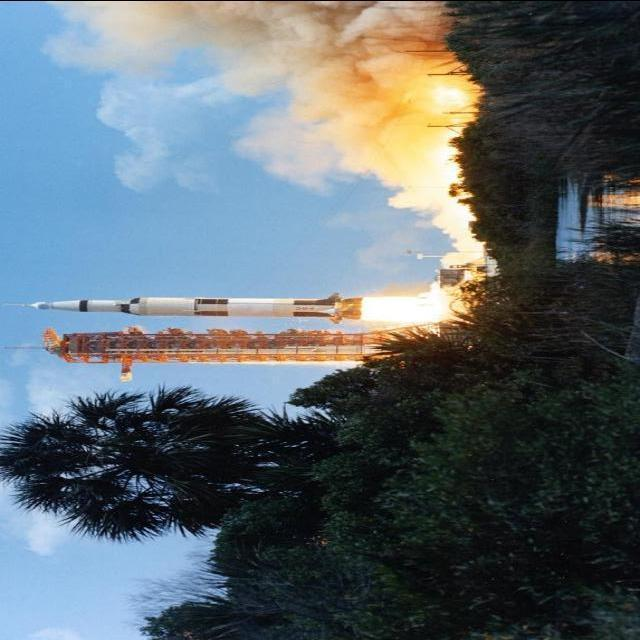missile: (28, 292, 364, 322)
